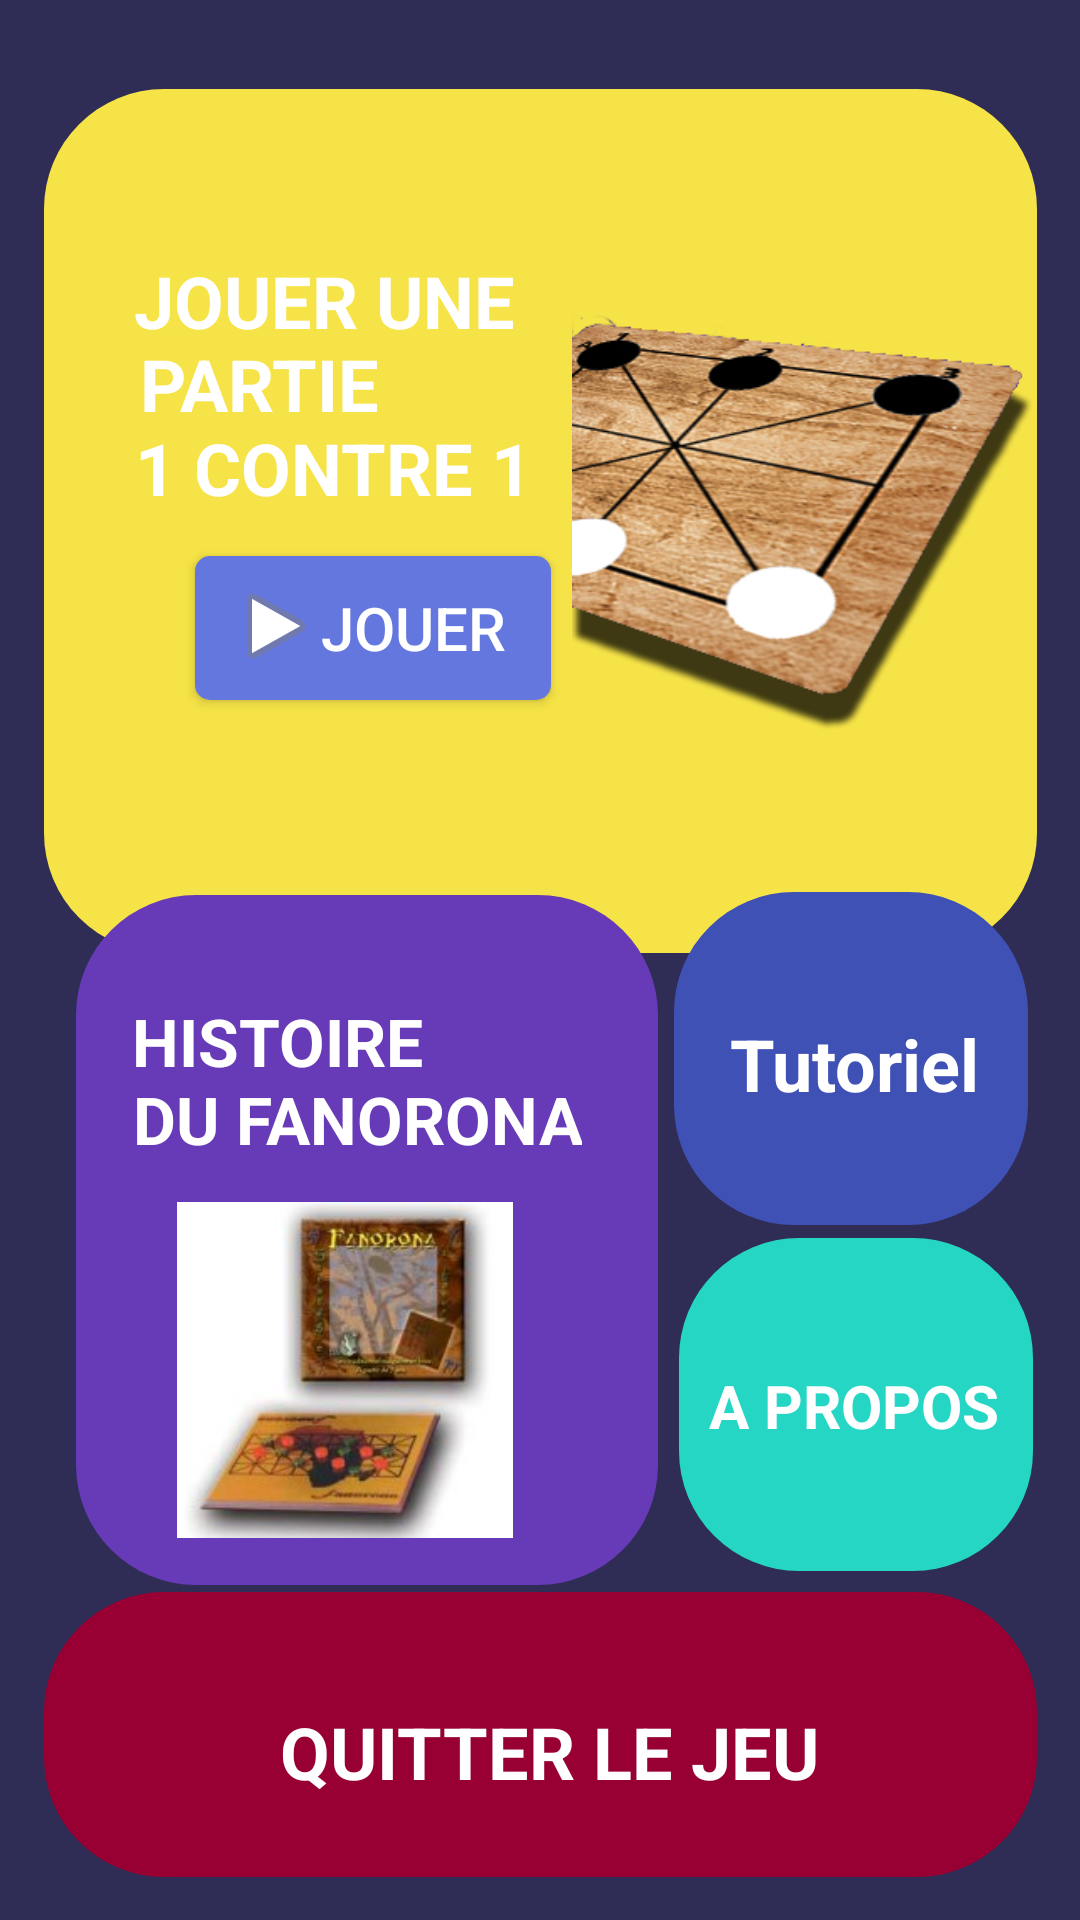

Icon click points for this 1080*1920 phone screenshot, format (x,y):
play: (276,626)
